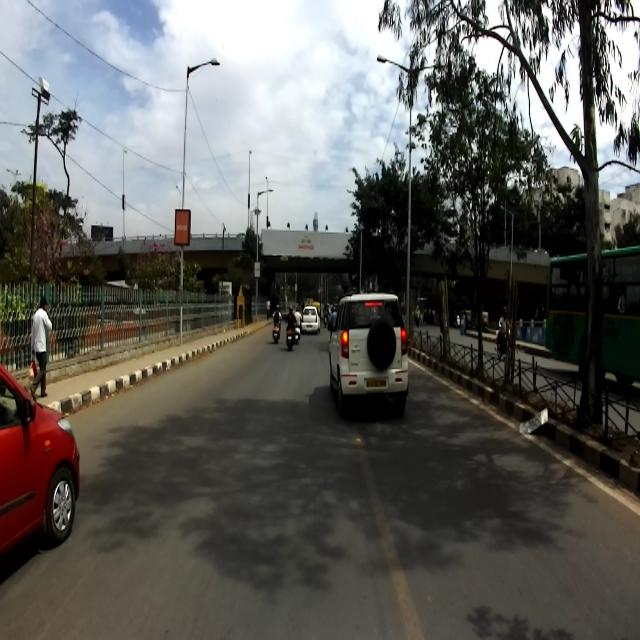autorickshaw: (312, 300, 320, 316)
bus: (546, 244, 640, 388)
car: (0, 359, 80, 581), (328, 282, 411, 408), (300, 305, 320, 334)
motorcycle: (493, 321, 515, 356)
scooter: (285, 316, 295, 351)
